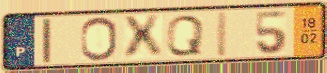5: (253, 9, 289, 56)
I: (214, 10, 231, 59), (40, 16, 53, 65)
O: (79, 15, 120, 62)
Q: (164, 13, 206, 58)
X: (120, 13, 166, 61)
